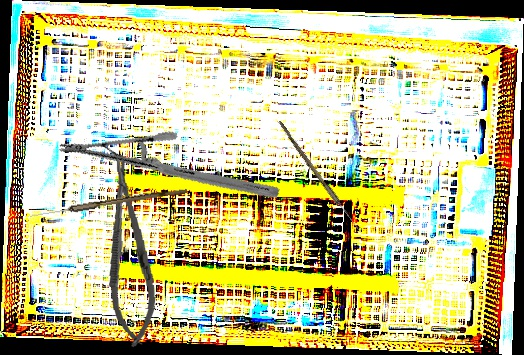Needle Holder: (56, 84, 282, 256), (98, 154, 161, 350)
Surgical Spoon: (275, 120, 364, 234), (29, 185, 188, 221)
